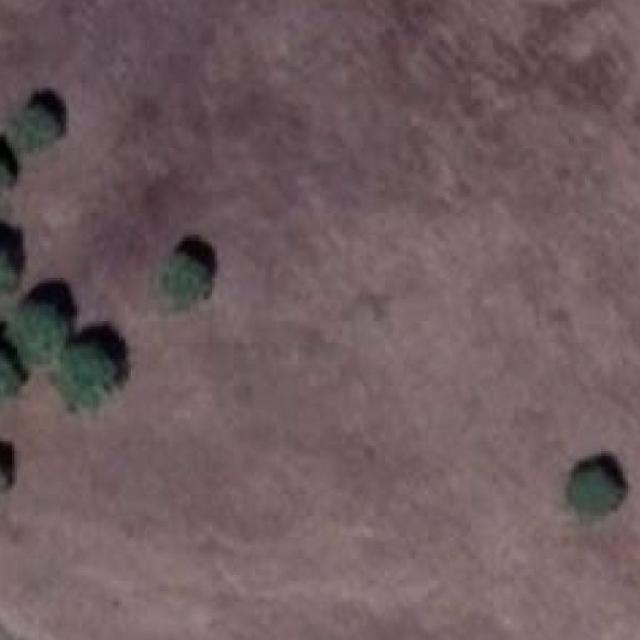Tree: (55, 346, 109, 403), (8, 308, 62, 357), (160, 256, 206, 303), (11, 110, 57, 152), (571, 472, 614, 510), (0, 353, 12, 411)
